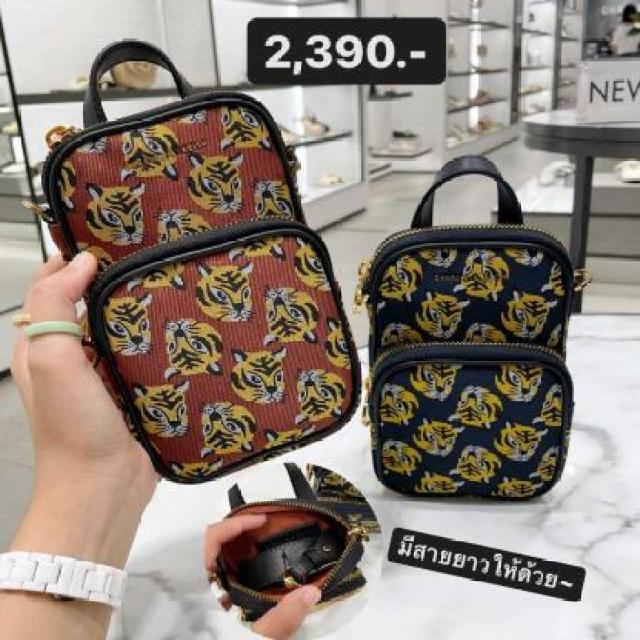Bag: (0, 0, 372, 506), (342, 123, 596, 522)
